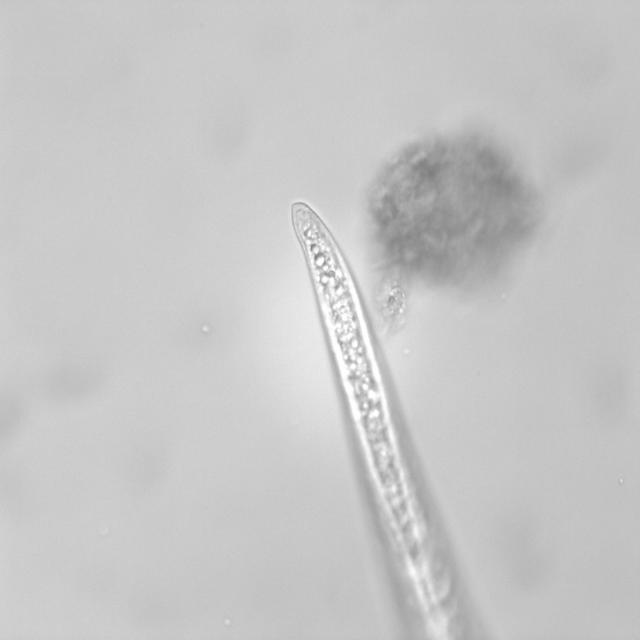Pratylenchus: (277, 192, 474, 602)
